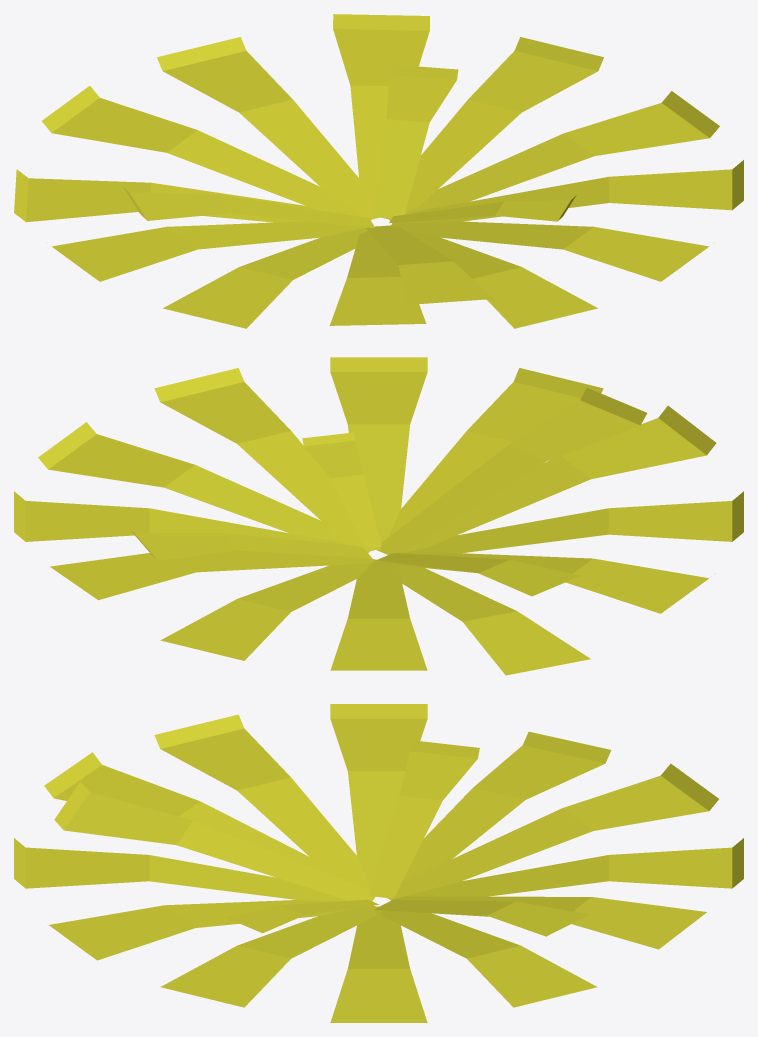
File: result.gltf
The picture shows the model from 3 angles, top to bottom: view 1: azimuth 30°, elevation 25°; view 2: azimuth 150°, elevation 25°; view 3: azimuth 270°, elevation 25°; orthographic projection.
Parts seen in each view (by area): view 1: Plant_4; view 2: Plant_4; view 3: Plant_4.
Boxes of the visible parts, x1,y1,x2,y2 form: Plant_4: (14,14,743,328); Plant_4: (14,357,743,675); Plant_4: (14,704,743,1022).
Bounding box in the file's own units: 234 × 22.17 × 234.
